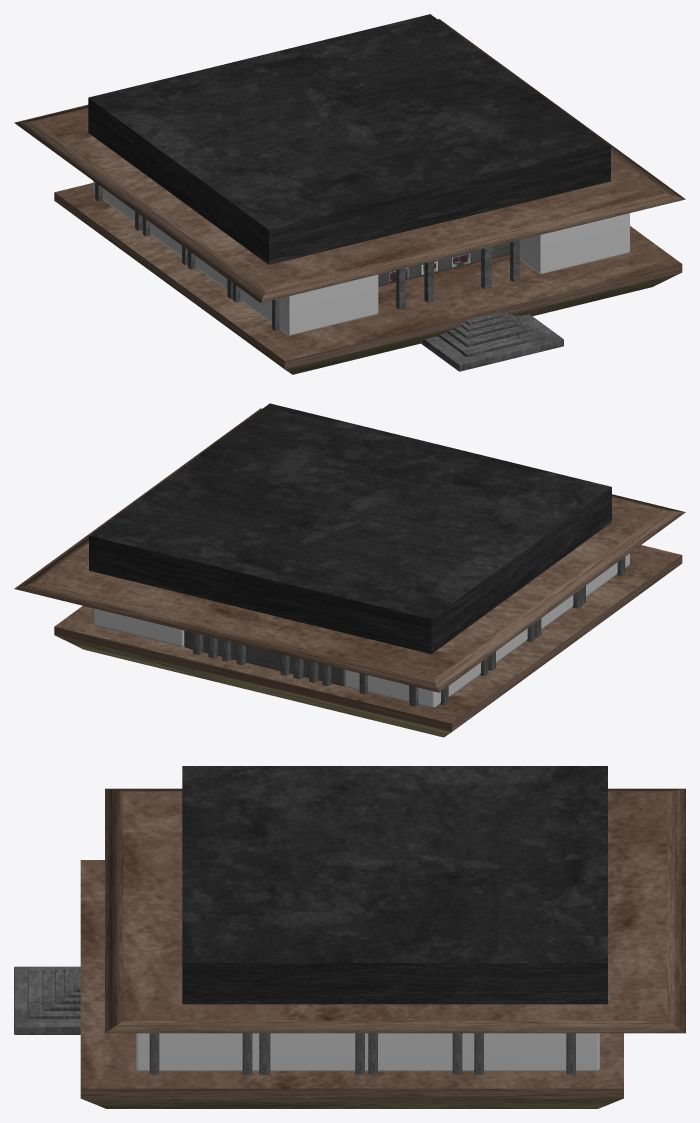
File: LibreriaFinal.fbx
3 views of the same model, one above another, from view 1: azimuth 30°, elevation 25°; view 2: azimuth 150°, elevation 25°; view 3: azimuth 270°, elevation 25° (orthographic). The views are drawn at different scales.
Parts seen in each view (by area): view 1: Roof2, Roof1, TopBase, FillerSides, Stairs2, BottomBase, Stairs, FrontTiles, FillerM, TilesL, Stairs1; view 2: Roof2, Roof1, TopBase, FillerSides, BottomBase, polySurface6, FillerM, TilesL; view 3: Roof2, Roof1, TopBase, FillerSides, BottomBase, TilesR, Stairs, Stairs2, Stairs1.
Part boxes in pixels (x1,y1,x2,y2): Roof2: [88, 14, 610, 264]; Roof1: [14, 19, 685, 302]; TopBase: [54, 183, 682, 369]; FillerSides: [93, 181, 629, 335]; Stairs2: [420, 314, 563, 371]; BottomBase: [285, 272, 681, 374]; Stairs: [423, 312, 563, 368]; FrontTiles: [396, 240, 519, 309]; FillerM: [378, 242, 509, 286]; TilesL: [95, 182, 280, 330]; Stairs1: [446, 315, 532, 347]; Roof2: [89, 403, 611, 654]; Roof1: [14, 408, 685, 692]; TopBase: [54, 545, 682, 731]; FillerSides: [93, 553, 629, 707]; BottomBase: [55, 635, 451, 737]; polySurface6: [193, 632, 331, 685]; FillerM: [184, 630, 344, 685]; TilesL: [440, 557, 625, 705]; Roof2: [182, 766, 607, 1004]; Roof1: [105, 788, 685, 1033]; TopBase: [80, 860, 623, 1098]; FillerSides: [136, 1033, 599, 1071]; BottomBase: [81, 1098, 622, 1108]; TilesR: [149, 1033, 575, 1074]; Stairs: [14, 966, 80, 1032]; Stairs2: [14, 968, 80, 1034]; Stairs1: [42, 969, 80, 1010].
Size of the model in its own units: 30.88 by 8.29 by 35.85.
